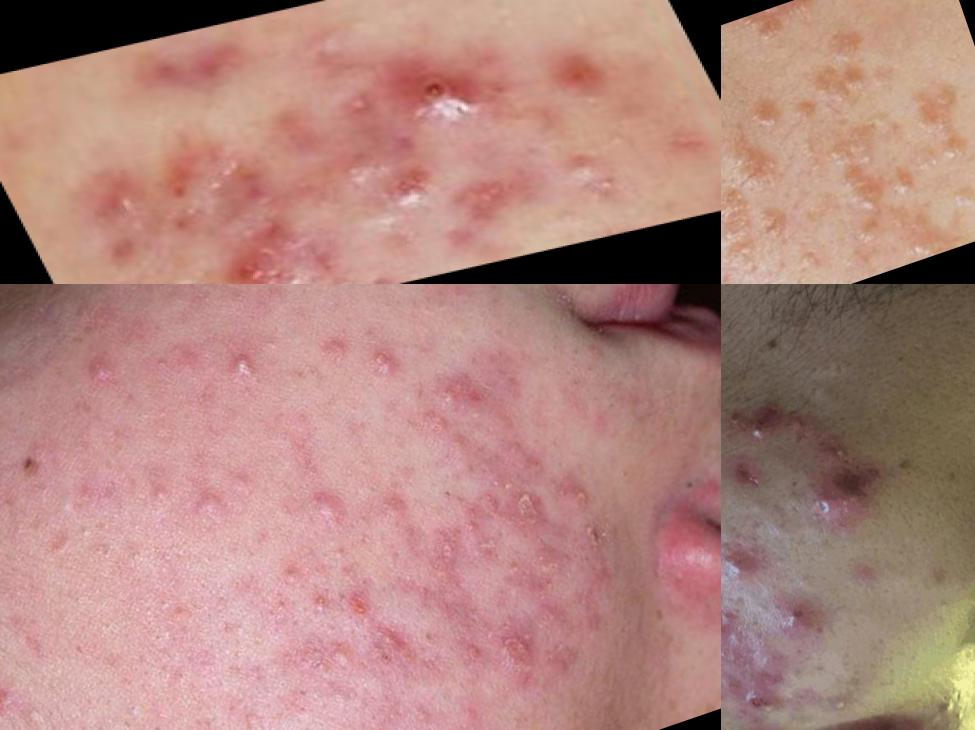acne_scars: (128, 24, 284, 116)
blackhead: (921, 675, 974, 730), (950, 497, 975, 597), (736, 483, 774, 529)
cystic: (371, 37, 506, 131)
flat_wart: (722, 172, 823, 285), (824, 159, 901, 253), (891, 71, 975, 145), (722, 129, 797, 208), (810, 17, 886, 85), (741, 1, 830, 59), (814, 61, 881, 120), (737, 88, 792, 141), (933, 169, 975, 227), (932, 131, 975, 170), (885, 167, 922, 202)
papular: (190, 230, 315, 285), (286, 461, 360, 547), (353, 462, 422, 540), (68, 178, 153, 236), (768, 583, 831, 638), (383, 163, 452, 213), (722, 533, 763, 588)
purulent: (65, 336, 137, 406), (295, 477, 360, 543), (215, 334, 275, 401), (354, 333, 415, 392), (1, 665, 36, 730), (722, 300, 735, 356)
sebo-crystan-conglo: (795, 449, 899, 542), (722, 634, 802, 724), (722, 372, 806, 455), (472, 611, 552, 695), (814, 694, 932, 730), (545, 465, 602, 531), (428, 355, 479, 419), (355, 604, 410, 663), (722, 585, 738, 650)
whitehead: (803, 652, 889, 730)
